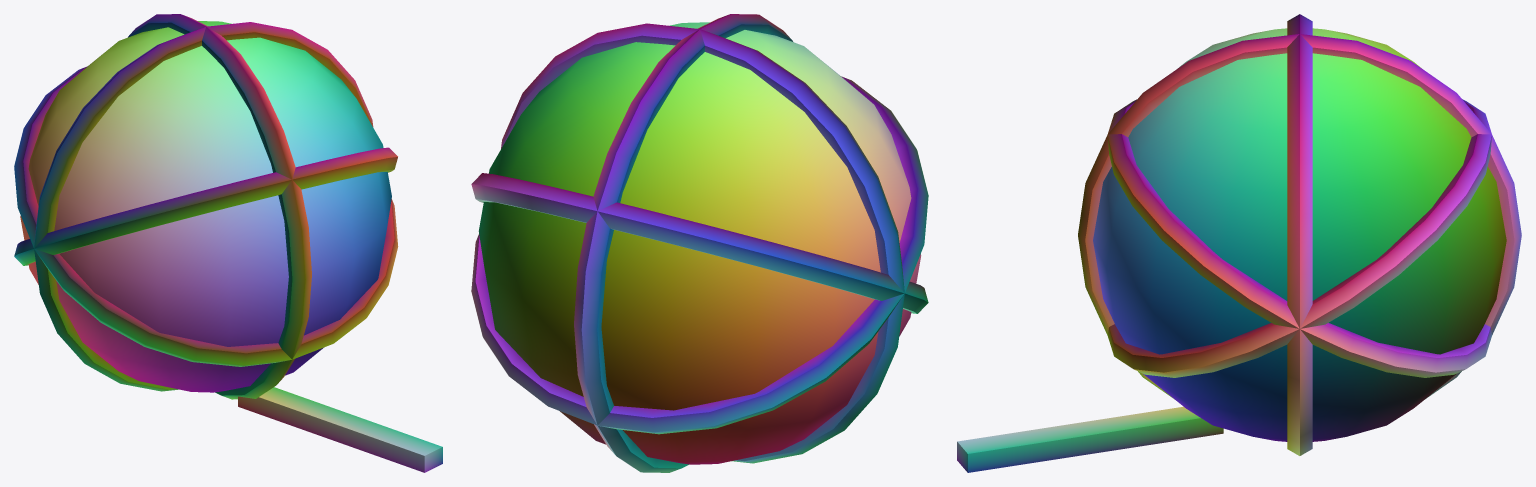
File: yarn_ball.fbx
3 renders of one model, left to right at view 1: azimuth 30°, elevation 25°; view 2: azimuth 150°, elevation 25°; view 3: azimuth 270°, elevation 25°, orthographic. The views are drawn at different scales.
Parts seen in each view (by area): view 1: yarn_ball; view 2: yarn_ball; view 3: yarn_ball.
Boxes of the visible parts, <box> form: yarn_ball: <box>14,14,442,472</box>; yarn_ball: <box>471,14,928,472</box>; yarn_ball: <box>957,14,1521,472</box>.
Size of the model in its own units: 0.424 by 0.424 by 0.5393.
